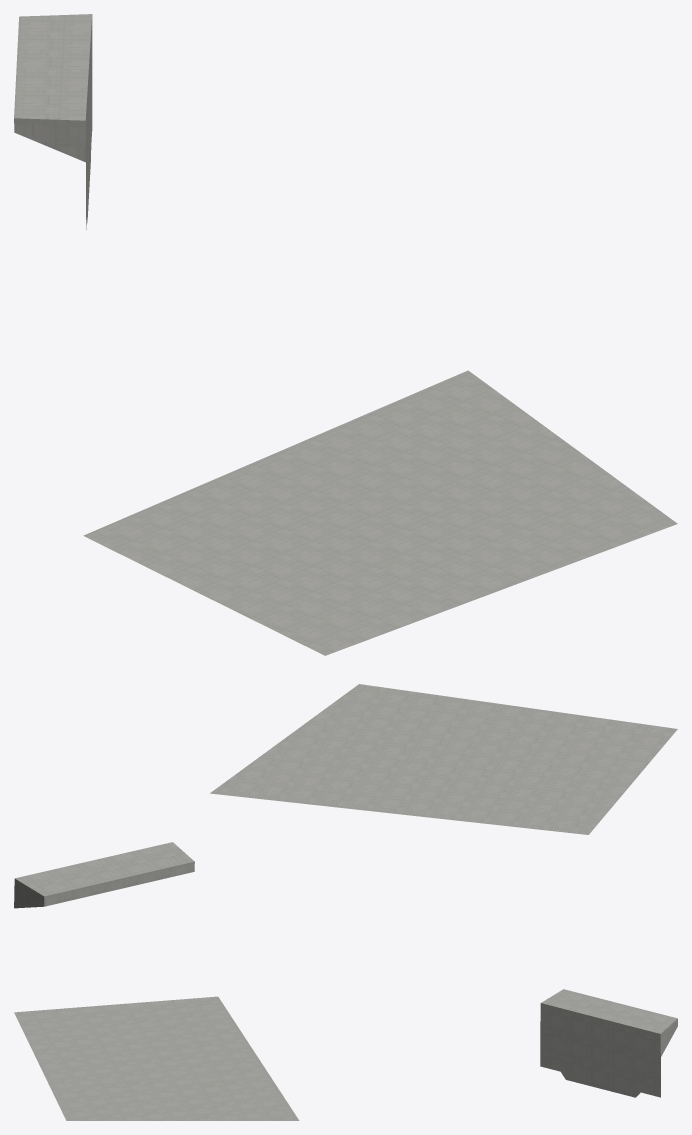
Rendered from kd_connection_world-inner_surface_19_28.glb.
The picture shows the model from 3 angles, top to bottom: view 1: azimuth 30°, elevation 25°; view 2: azimuth 150°, elevation 25°; view 3: azimuth 270°, elevation 25°; orthographic projection. The views are drawn at different scales.
Parts seen in each view (by area): view 1: kd_connection_world-inner_surface_19_28; view 2: kd_connection_world-inner_surface_19_28; view 3: kd_connection_world-inner_surface_19_28.
Part boxes in pixels (x1,y1,x2,y2): kd_connection_world-inner_surface_19_28: (14,14,677,655); kd_connection_world-inner_surface_19_28: (14,684,677,908); kd_connection_world-inner_surface_19_28: (14,989,677,1120).
Size of the model in its own units: 16.69 by 4.57 by 37.68.
1 material, 1 textured.
